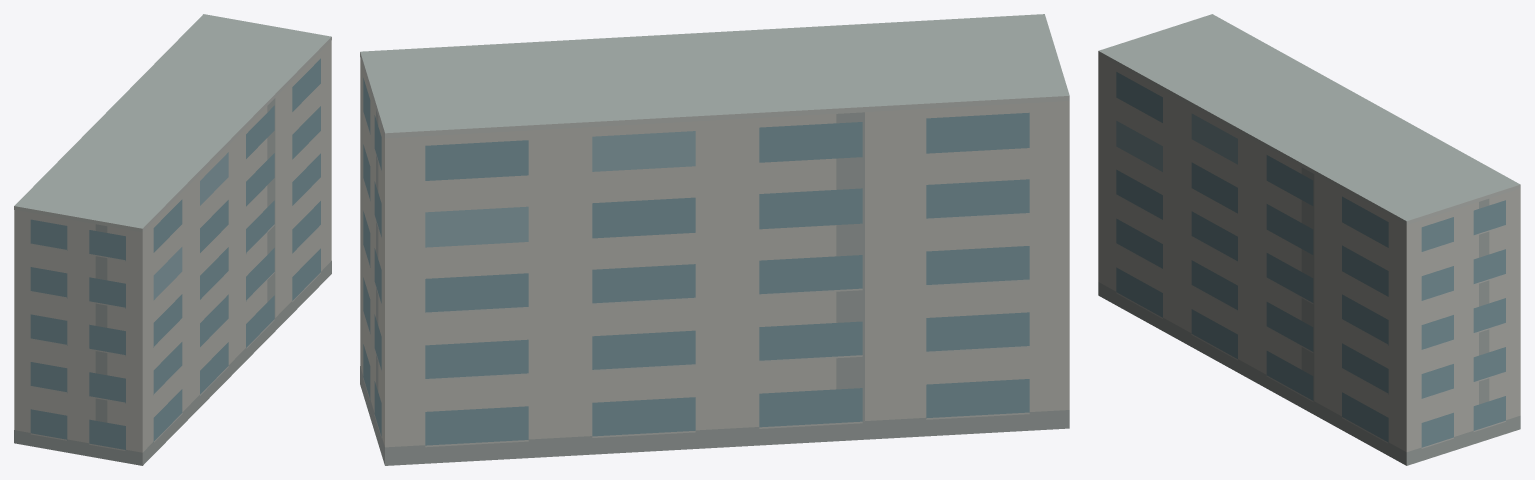
Rendered from residential-3ee111a6-58a2-4142-904b-83c3ad7ac553.glb.
3 views of the same model, side by side, from view 1: azimuth 30°, elevation 25°; view 2: azimuth 150°, elevation 25°; view 3: azimuth 270°, elevation 25° (orthographic). The views are drawn at different scales.
Visible parts, largest first — view 1: residential-3ee111a6-58a2-4142-904b-83c3ad7ac553.tmp; view 2: residential-3ee111a6-58a2-4142-904b-83c3ad7ac553.tmp; view 3: residential-3ee111a6-58a2-4142-904b-83c3ad7ac553.tmp.
Boxes of the visible parts, x1,y1,x2,y2 form: residential-3ee111a6-58a2-4142-904b-83c3ad7ac553.tmp: [14, 14, 331, 465]; residential-3ee111a6-58a2-4142-904b-83c3ad7ac553.tmp: [360, 14, 1069, 465]; residential-3ee111a6-58a2-4142-904b-83c3ad7ac553.tmp: [1098, 14, 1520, 465].
Bounding box in the file's own units: 27.72 × 15.25 × 23.87.
